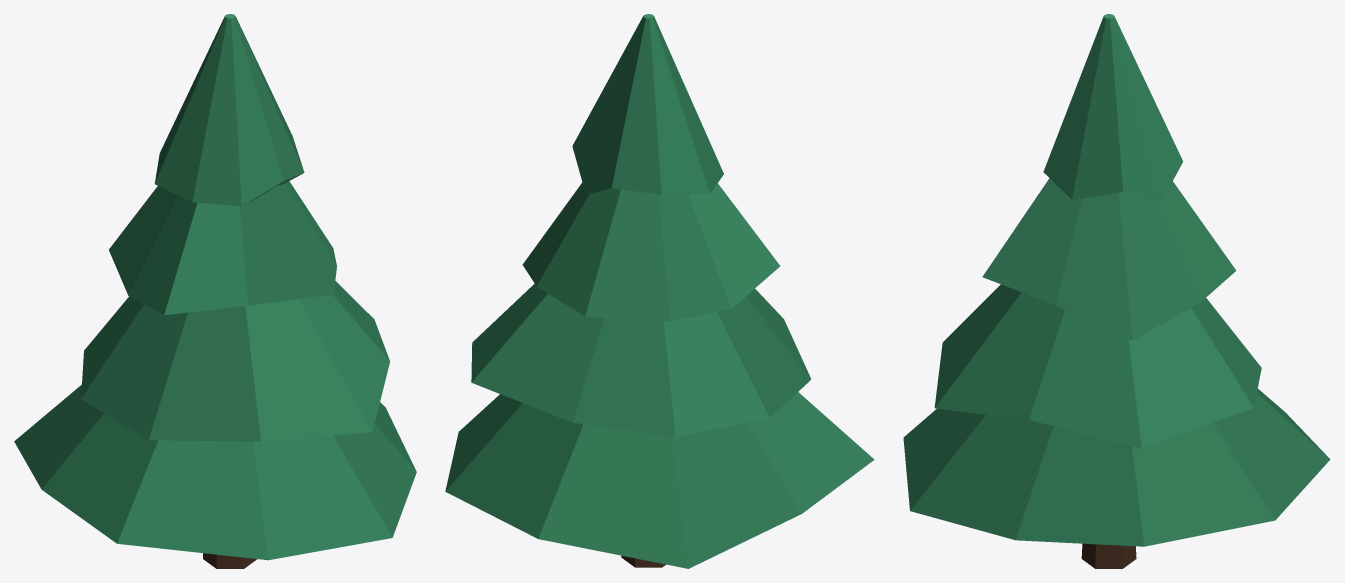
The model's file is tree_pine_1.glb.
3 views of the same model, side by side, from view 1: azimuth 30°, elevation 25°; view 2: azimuth 150°, elevation 25°; view 3: azimuth 270°, elevation 25° (orthographic).
Parts seen in each view (by area): view 1: tree_pine_1; view 2: tree_pine_1; view 3: tree_pine_1.
Boxes of the visible parts, x1,y1,x2,y2 form: tree_pine_1: [14, 14, 416, 568]; tree_pine_1: [445, 14, 874, 568]; tree_pine_1: [903, 14, 1330, 568].
Bounding box in the file's own units: 4.35 × 6.55 × 4.67.
